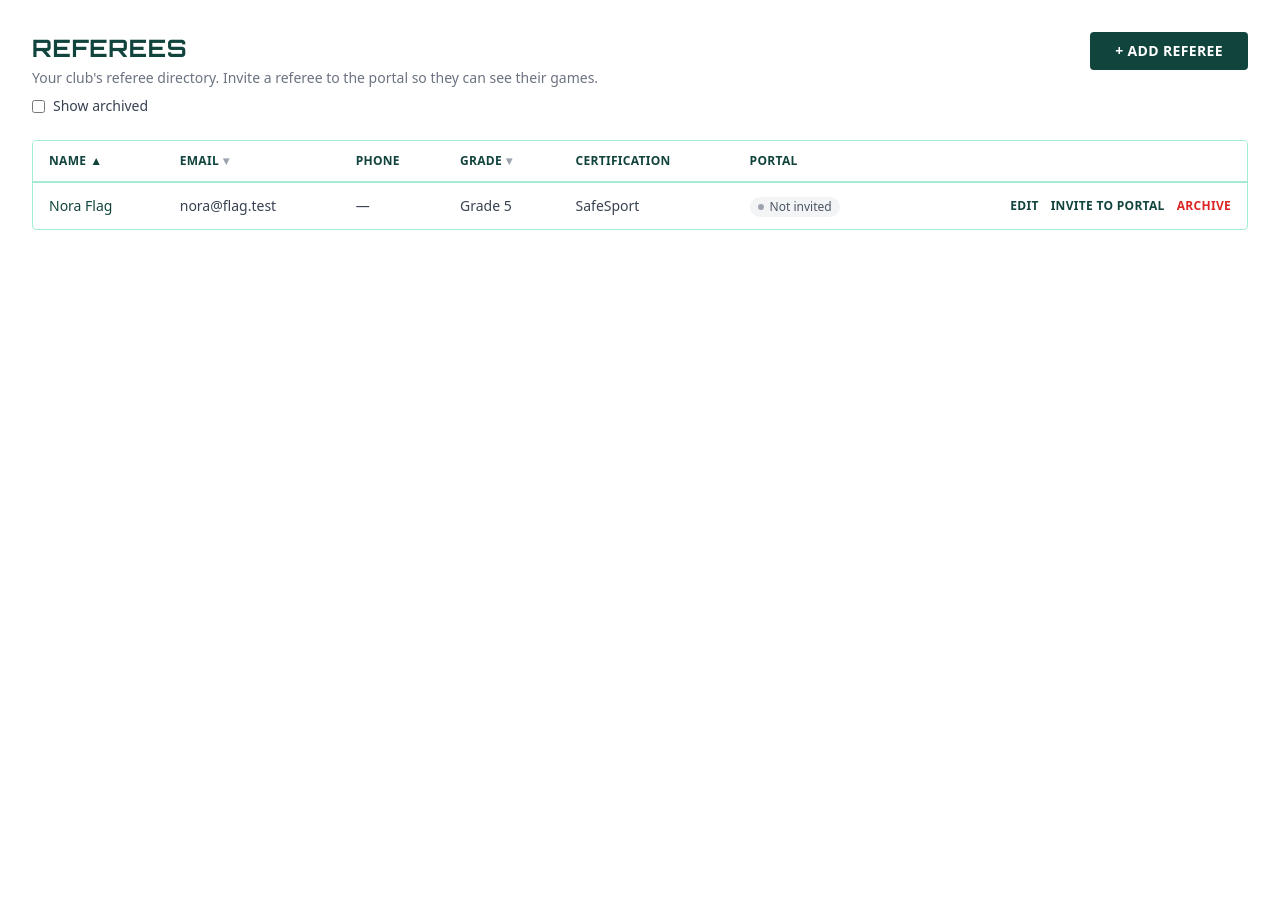
Test: Referees directory page › shows a 409 duplicate as the error, not a silent empty save
This screenshot has width=1280, height=900.
Expected: the text "Nora Flag" is shown, [49,196,112,215]
Click the button "+ Add Referee": click(1169, 51) [1090,32,1248,70]
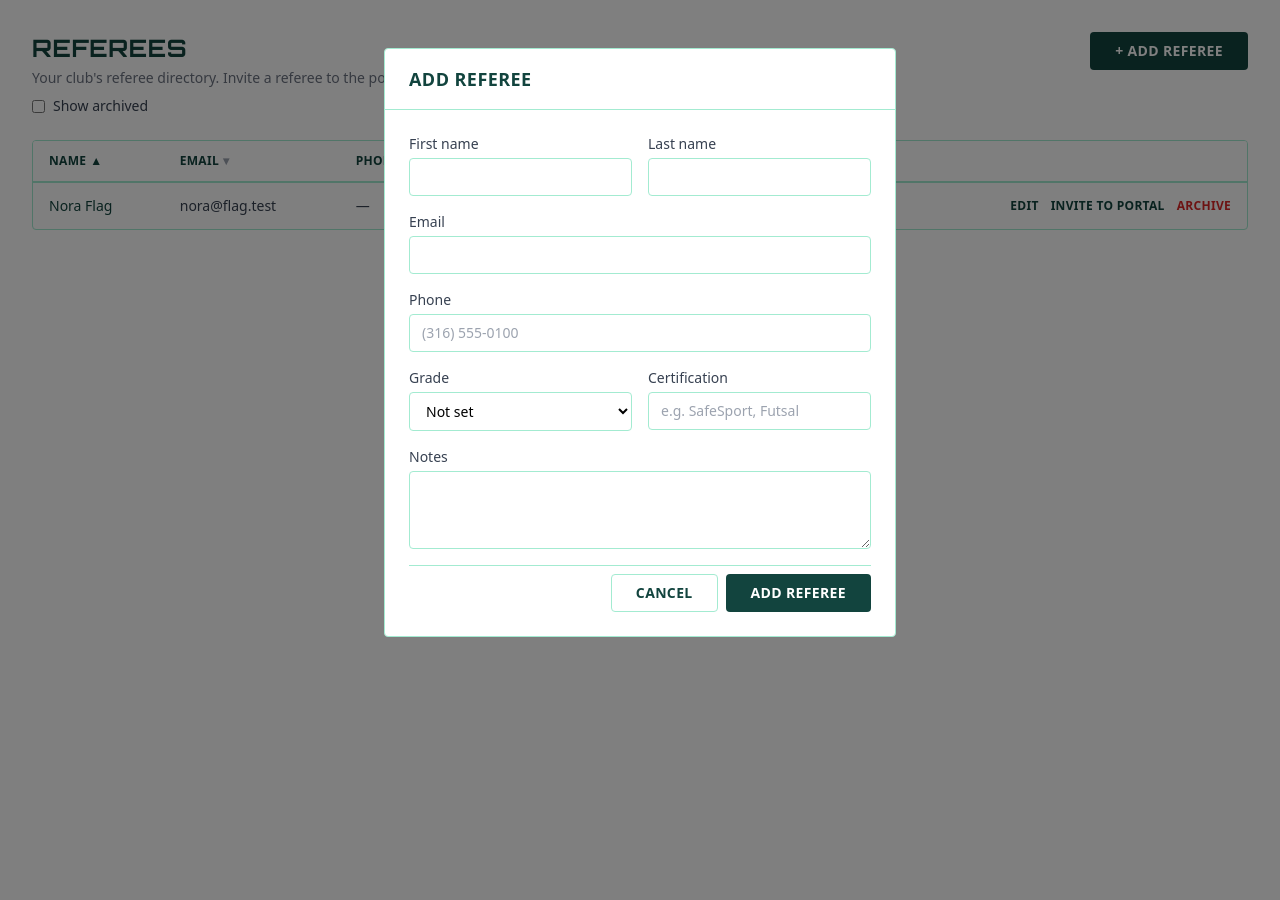
In the field labelled "First name": (520, 177) [409,158,632,196], type "N"
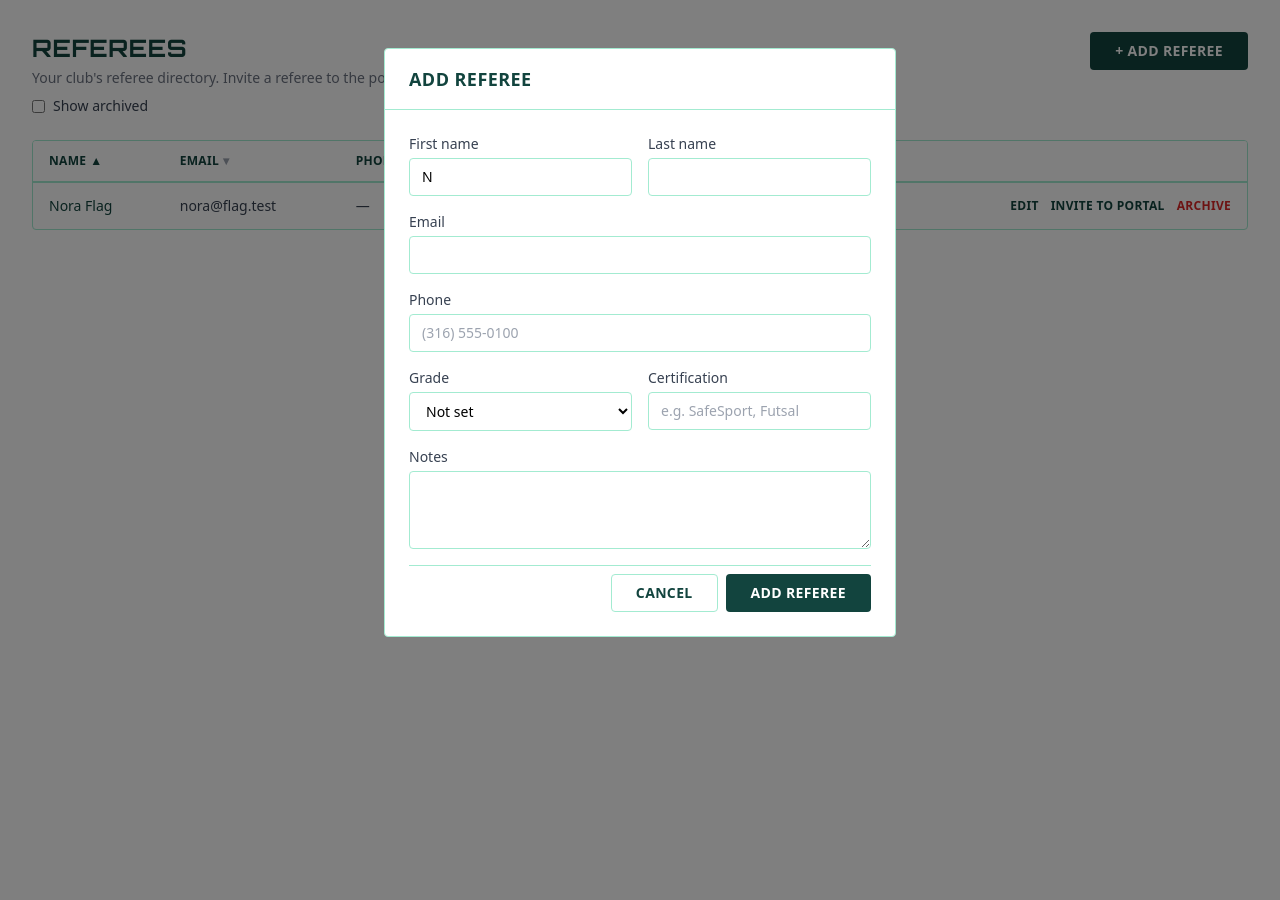
In the field labelled "Last name": (760, 177) [648,158,871,196], type "F"
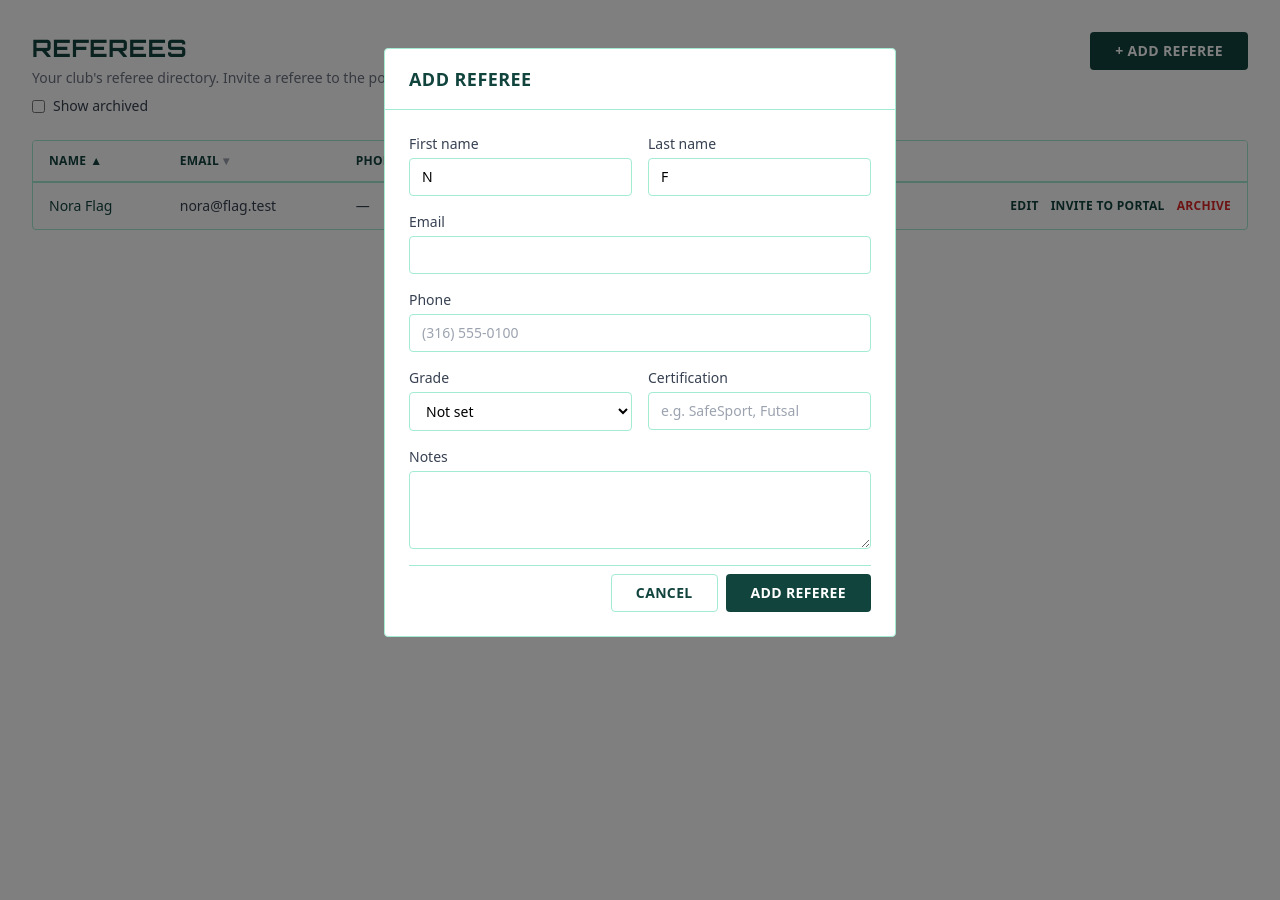
In the field labelled "Email": (640, 255) [409,236,871,274], type "nora@flag.test"
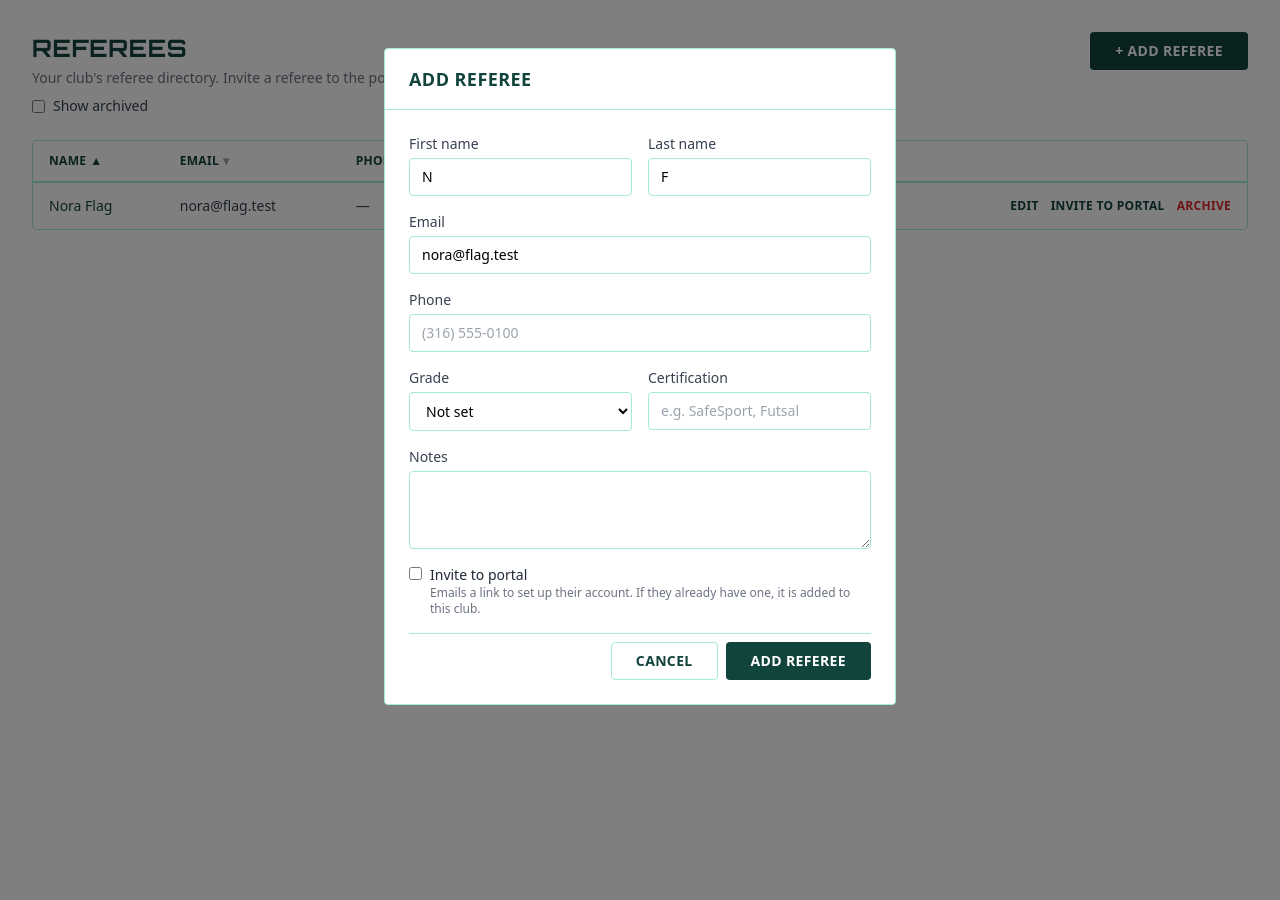
Submit the form named "Add Referee", box [385,110,895,704]
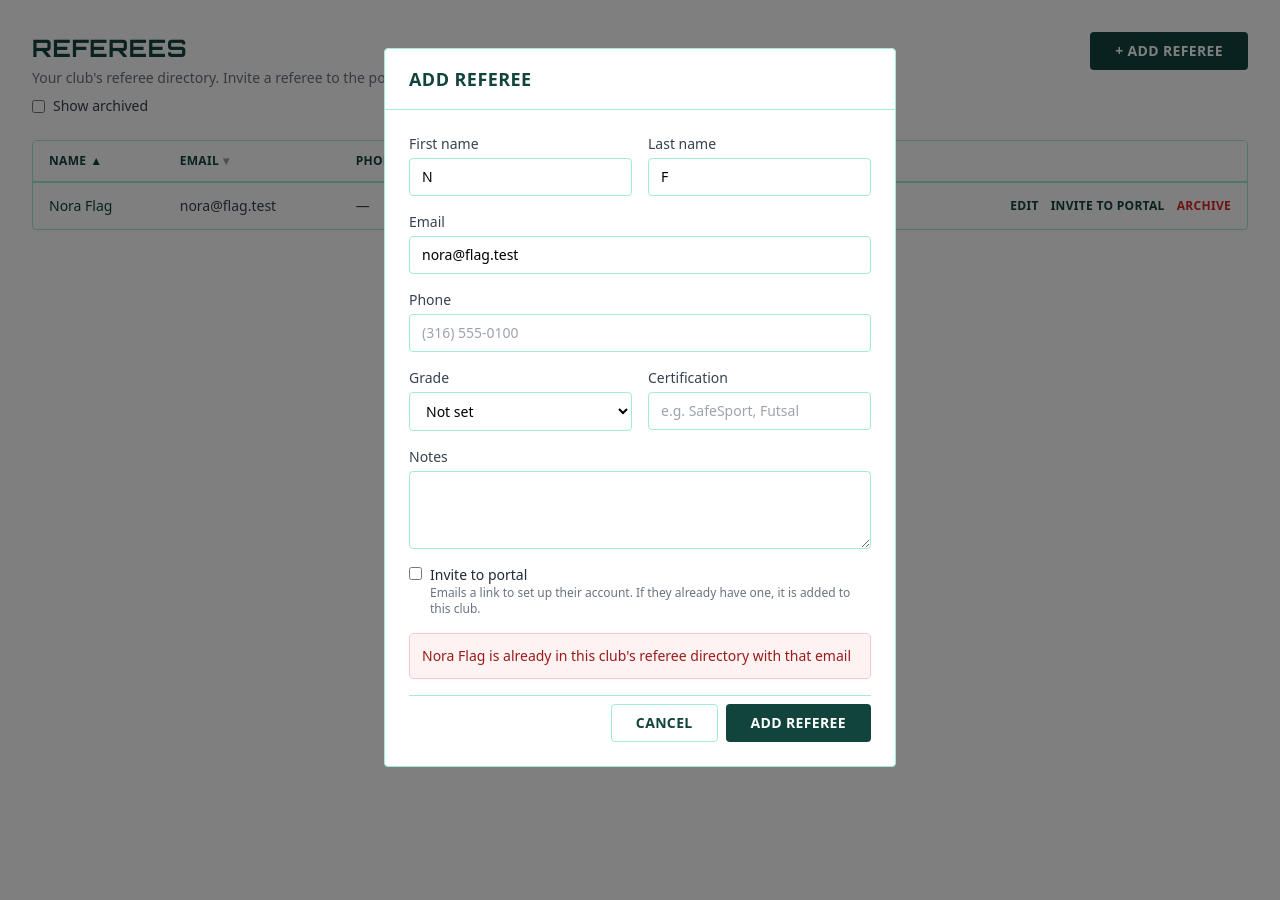
Expected: the text "Nora Flag is already in this club's referee directory with that email" is shown, [409,633,871,679]
